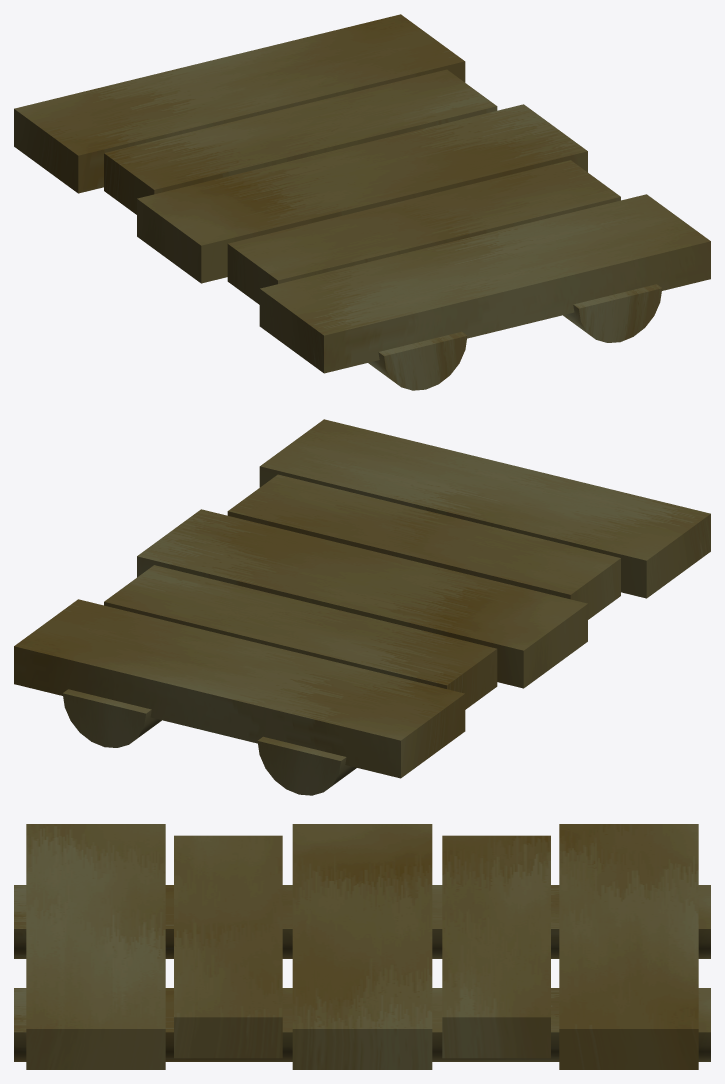
Rendered from M_Foothold.fbx.
The picture shows the model from 3 angles, top to bottom: view 1: azimuth 30°, elevation 25°; view 2: azimuth 150°, elevation 25°; view 3: azimuth 270°, elevation 25°; orthographic projection. The views are drawn at different scales.
Visible parts, largest first — view 1: M_Foothold; view 2: M_Foothold; view 3: M_Foothold.
Part boxes in pixels (x1,y1,x2,y2): M_Foothold: [14, 14, 710, 390]; M_Foothold: [14, 419, 710, 795]; M_Foothold: [14, 824, 710, 1069].
Bounding box in the file's own units: 1.39 × 0.2518 × 2.
Materials: 1 (1 with a texture image).
